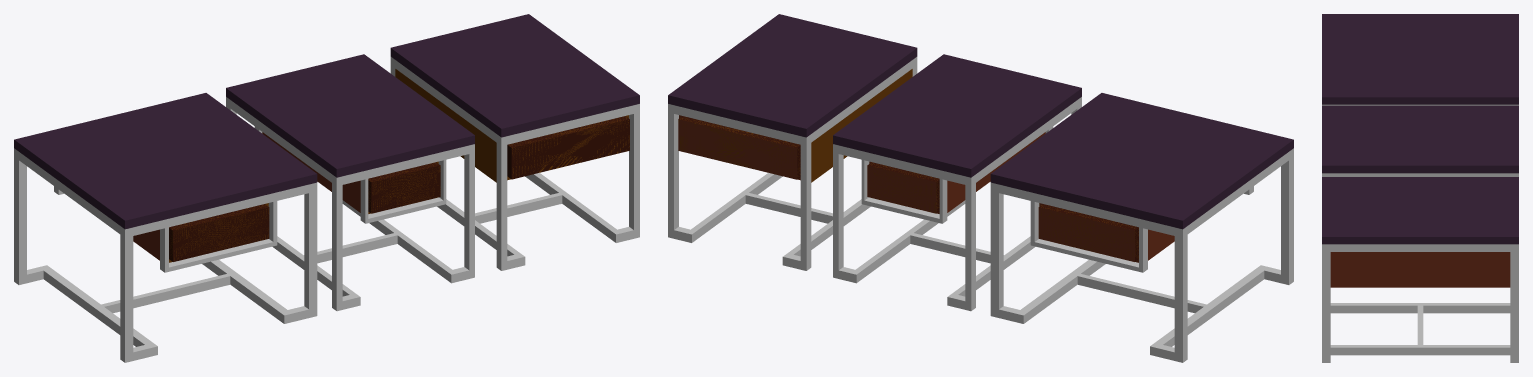
The model's file is 509無標題 (2).dae.
3 views of the same model, side by side, from view 1: azimuth 30°, elevation 25°; view 2: azimuth 150°, elevation 25°; view 3: azimuth 270°, elevation 25° (orthographic). The views are drawn at different scales.
Visible parts, largest first — view 1: SketchUp (×9), group_0 (×2), group_1 (×2), group_2; view 2: SketchUp (×11), group_0 (×2), group_1 (×2), group_2; view 3: SketchUp (×4), group_2, group_1, group_0.
Part boxes in pixels (box(x1,y1,x2,y2)): SketchUp (×9): box(14, 14, 639, 261); group_0 (×2): box(14, 148, 317, 362); group_1 (×2): box(226, 97, 474, 311); group_2: box(390, 57, 639, 270); SketchUp (×11): box(668, 14, 1293, 261); group_0 (×2): box(990, 148, 1293, 362); group_1 (×2): box(833, 97, 1081, 311); group_2: box(668, 57, 917, 270); SketchUp (×4): box(1322, 14, 1518, 287); group_2: box(1322, 244, 1518, 362); group_1: box(1322, 173, 1518, 176); group_0: box(1322, 104, 1518, 105).
Bounding box in the file's own units: 73.83 × 27.56 × 19.49.
